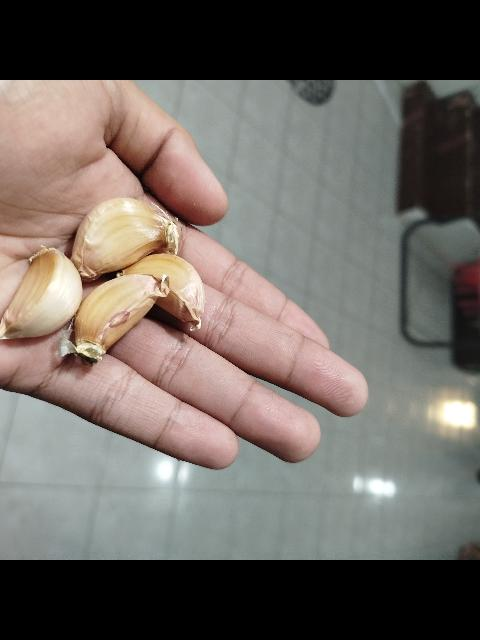garlic: (59, 272, 169, 368), (69, 197, 179, 281), (0, 245, 82, 342), (115, 253, 205, 331)
